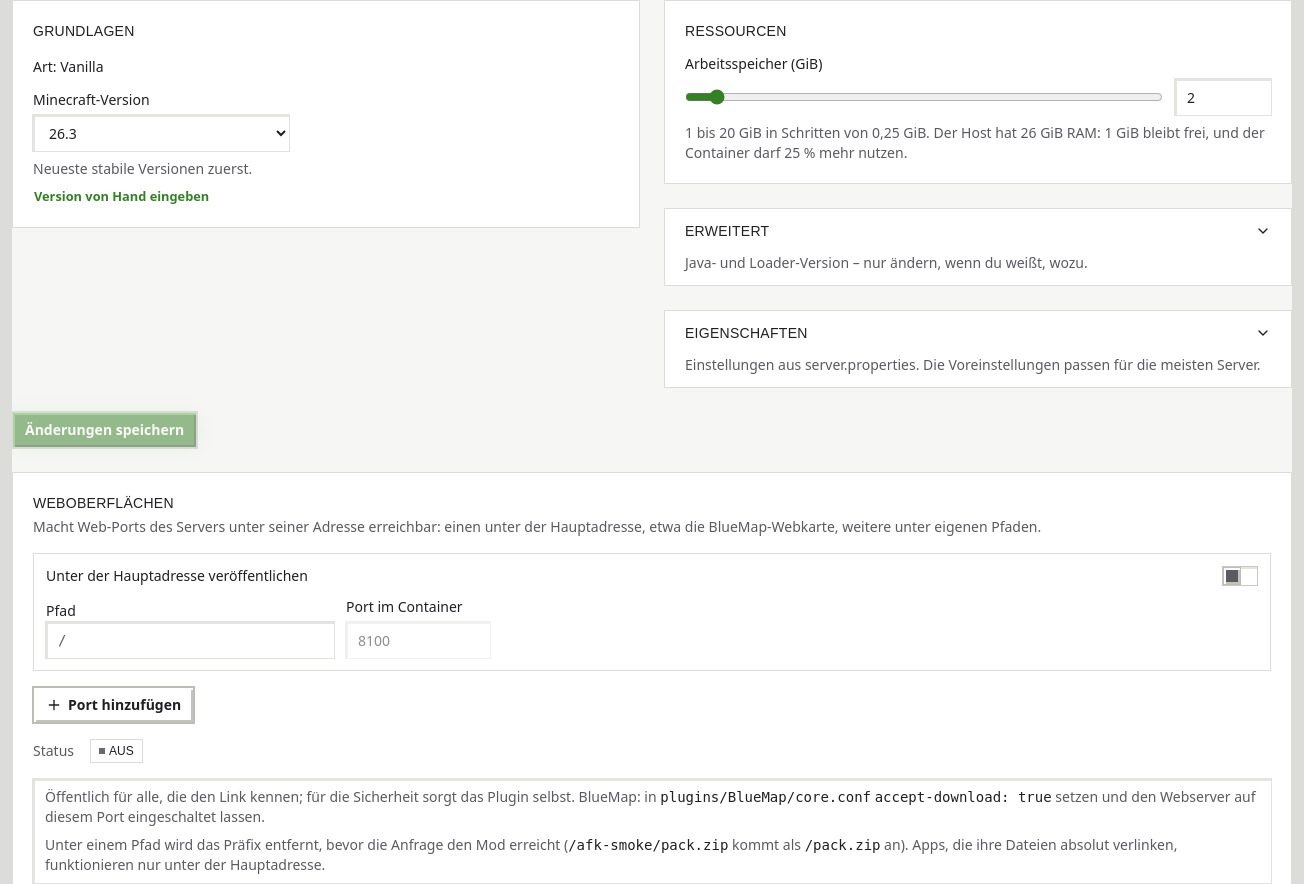
Test: WebRoutesSection › prefills 8100 again when the root is switched on with an empty port
The image size is (1304, 884).
Click the switch named "Unter der Hauptadresse veröffentlichen".
click(1240, 576)  # box [1222,566,1258,586]
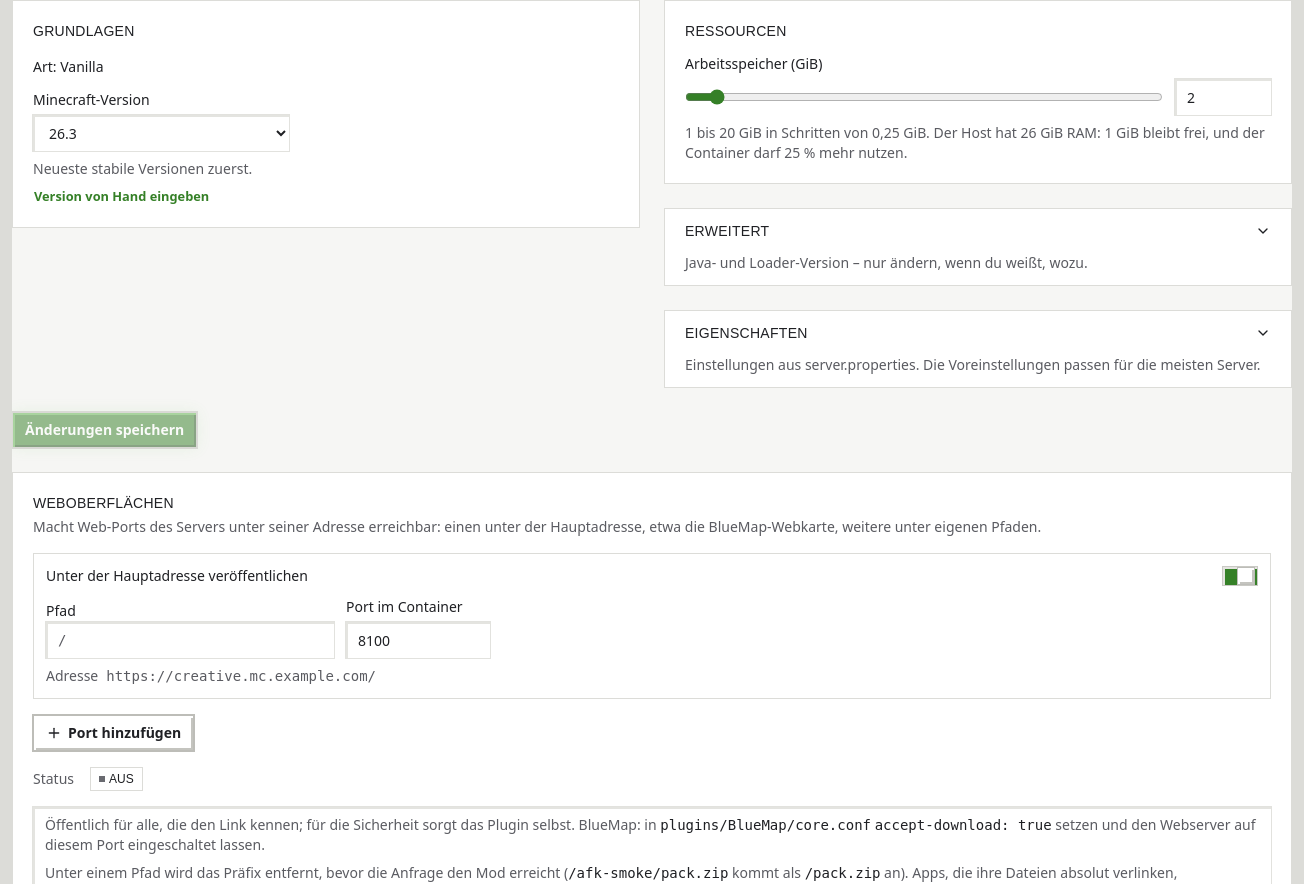
Clear the number field named "Port im Container für die Hauptadresse" at (418, 640), box [346,622,490,658]
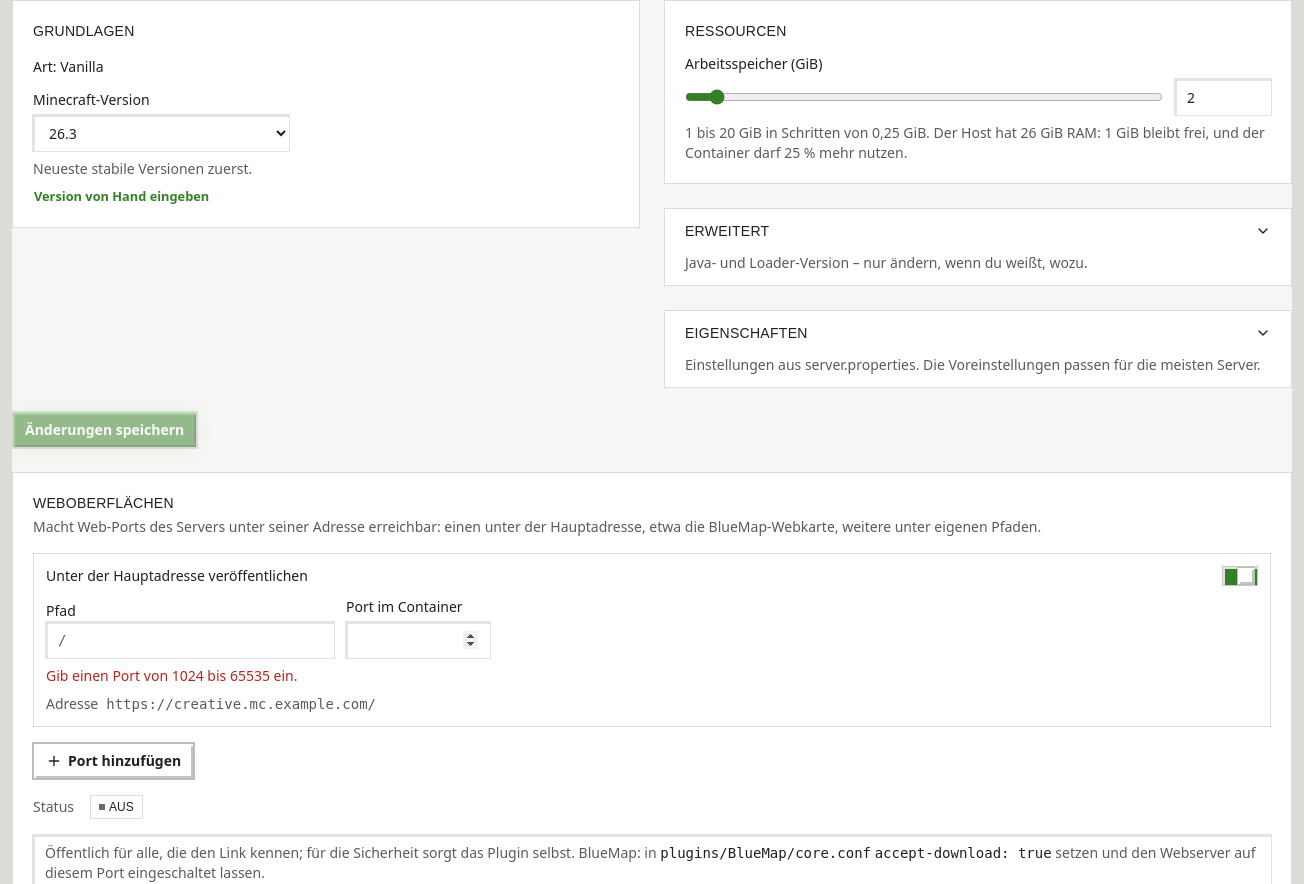
Click the switch named "Unter der Hauptadresse veröffentlichen".
click(1240, 576)  # box [1222,566,1258,586]
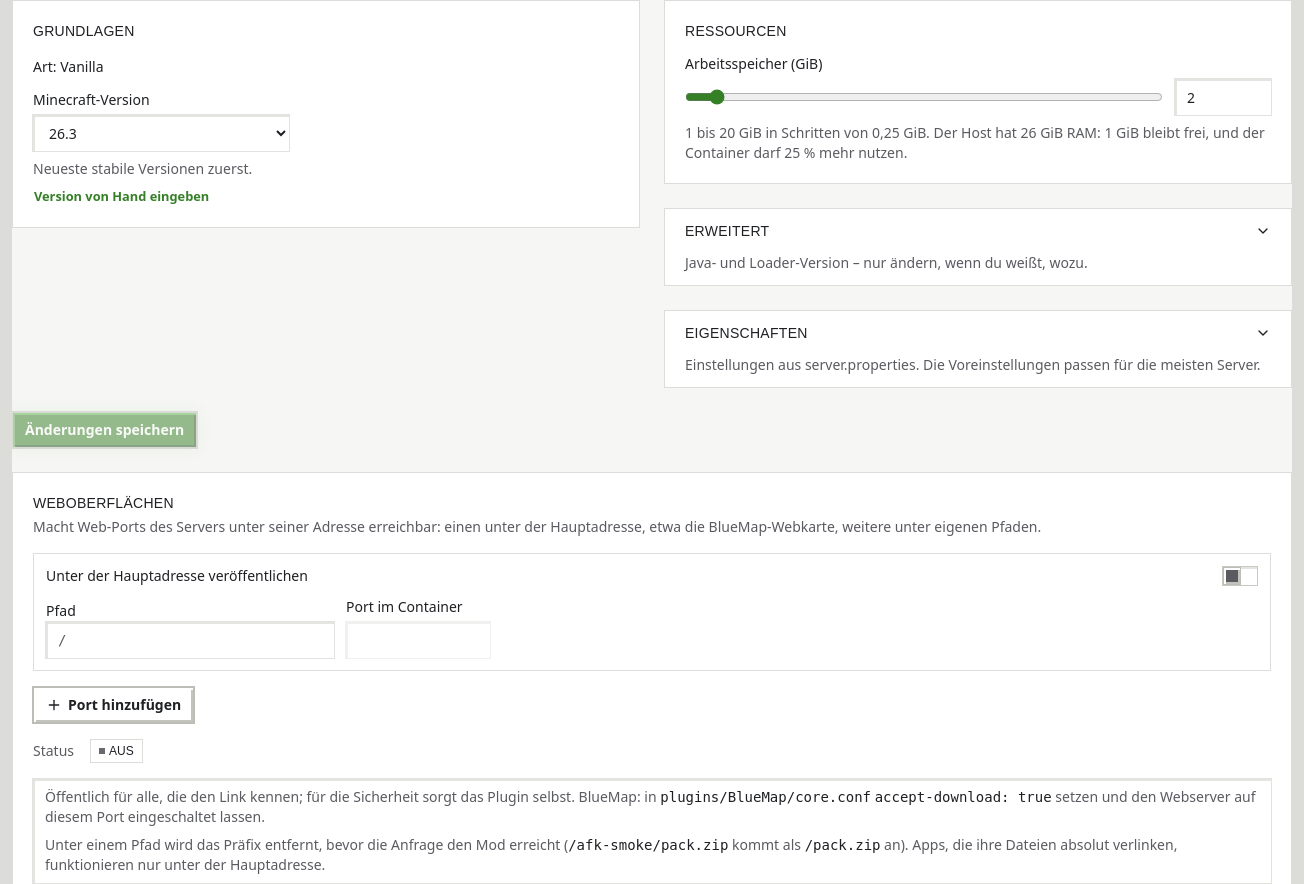
Click the switch named "Unter der Hauptadresse veröffentlichen".
click(1240, 576)  # box [1222,566,1258,586]
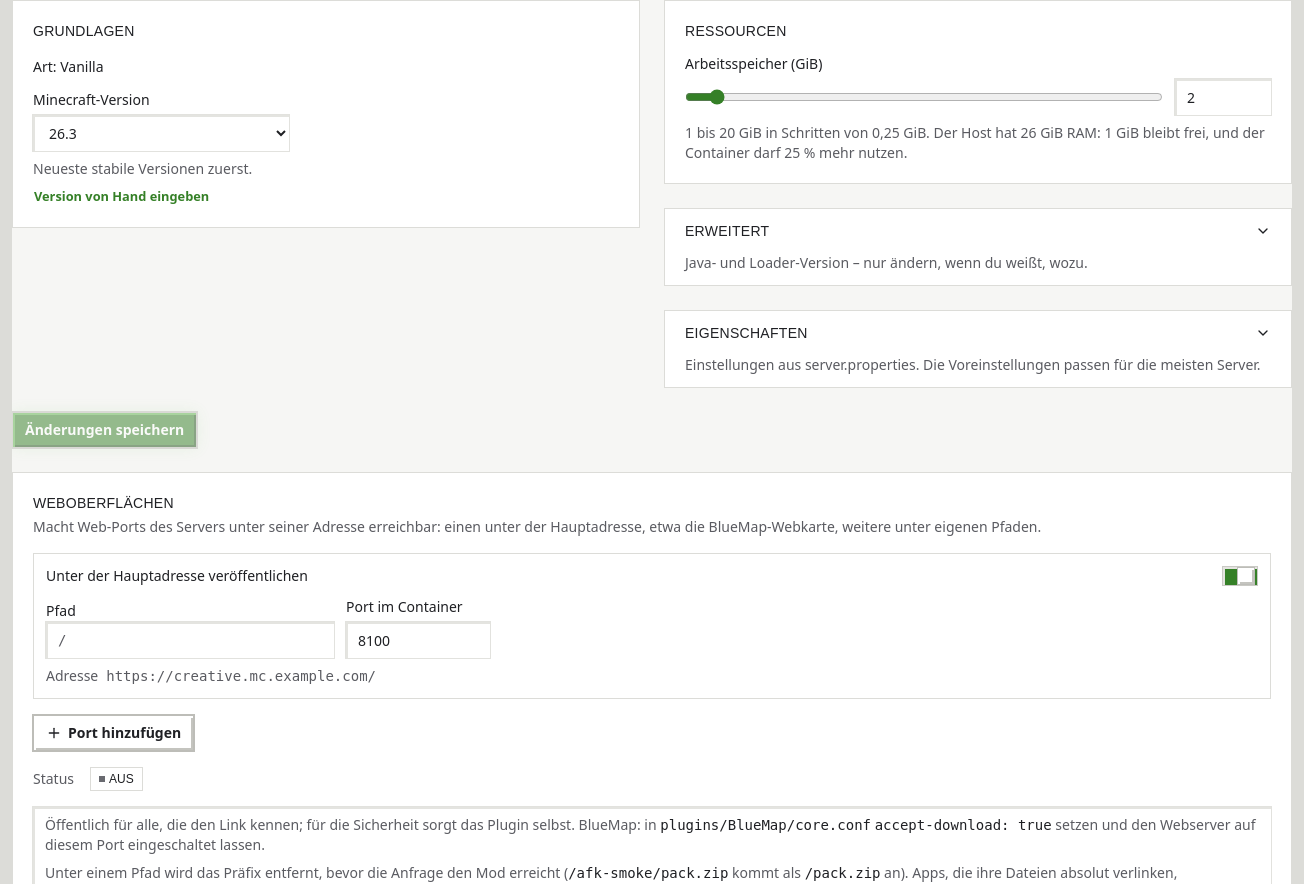
Expected: the number field named "Port im Container für die Hauptadresse" holds "8100", [346,622,490,658]
